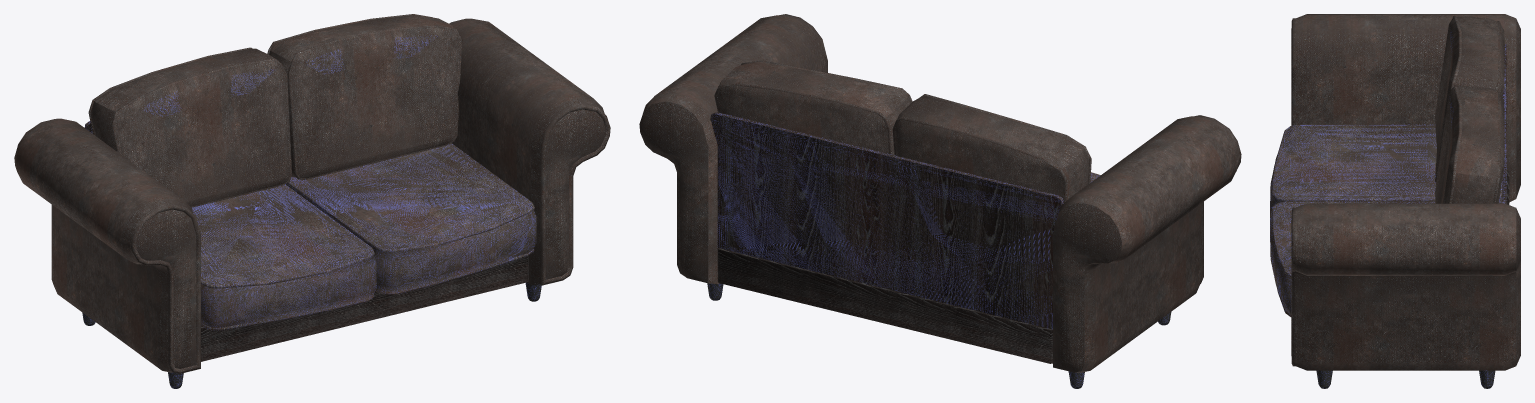
The model's file is sofa_couro.dae.
3 views of the same model, side by side, from view 1: azimuth 30°, elevation 25°; view 2: azimuth 150°, elevation 25°; view 3: azimuth 270°, elevation 25° (orthographic). The views are drawn at different scales.
Visible parts, largest first — view 1: group_0 (×10); view 2: group_0 (×6); view 3: group_0 (×8).
Boxes of the visible parts, bbox=[...] form: group_0 (×10): bbox=[14, 14, 610, 373]; group_0 (×6): bbox=[639, 14, 1241, 372]; group_0 (×8): bbox=[1270, 14, 1520, 388].
Bounding box in the file's own units: 80.7 × 38.2 × 37.81.
